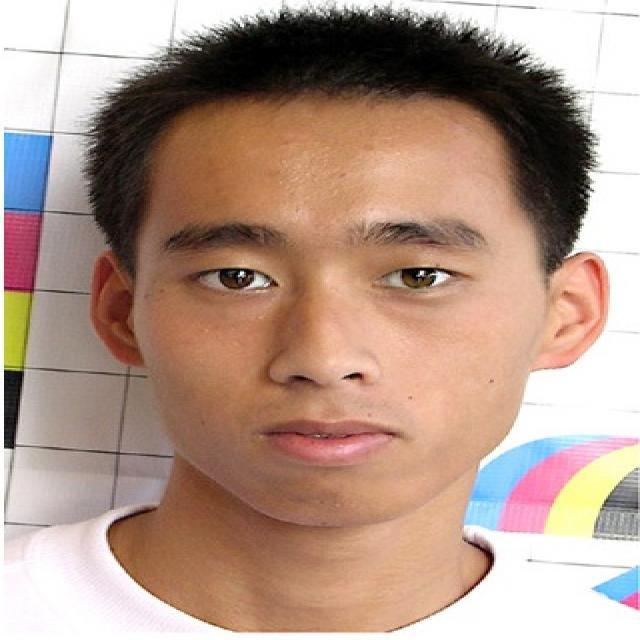Nonhelmet: (54, 0, 634, 563)
